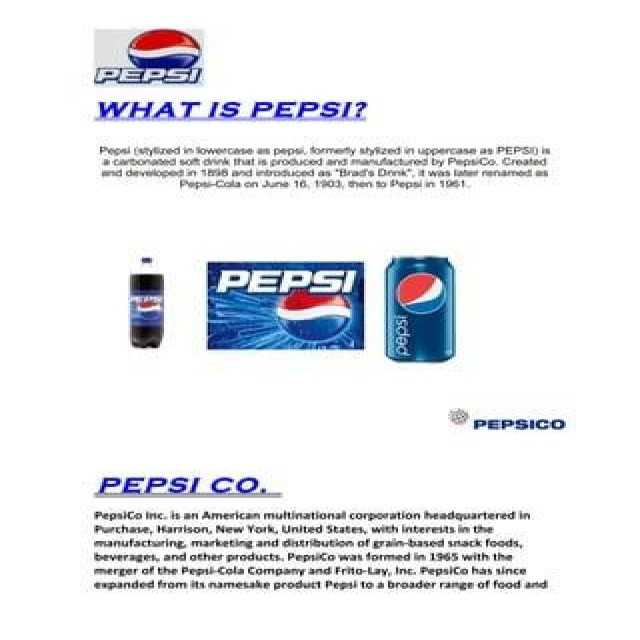pepsi: (90, 26, 212, 86), (268, 283, 362, 340), (393, 269, 449, 320)
